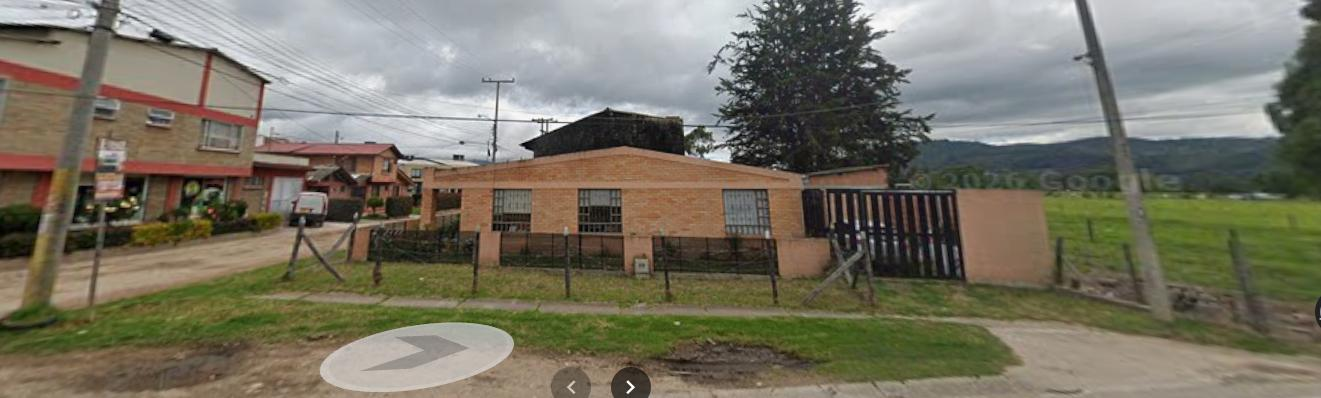casa: (283, 147, 1150, 322)
poste: (1073, 0, 1173, 320), (19, 0, 119, 314), (481, 77, 515, 161)
